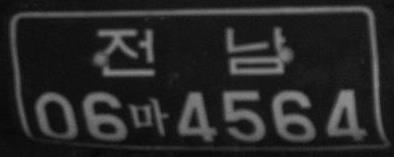0: (33, 91, 80, 140)
4: (326, 87, 368, 143), (176, 90, 217, 142)
5: (221, 88, 267, 143)
6: (271, 88, 317, 143), (81, 90, 128, 141)
마: (129, 98, 169, 136)
전남_D: (97, 24, 286, 78)
